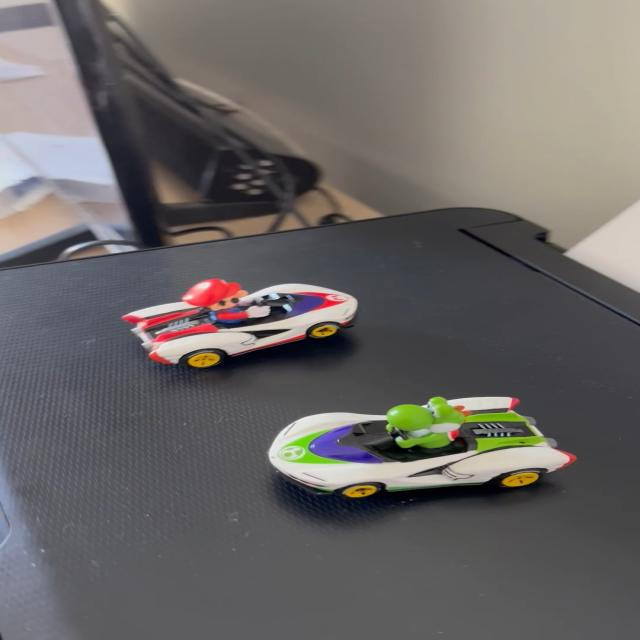mario: (110, 270, 375, 365)
yoshi: (257, 385, 581, 503)
